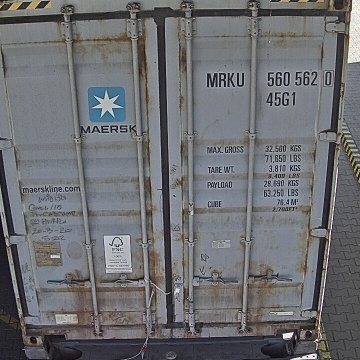serial_id: (207, 70, 333, 86)
